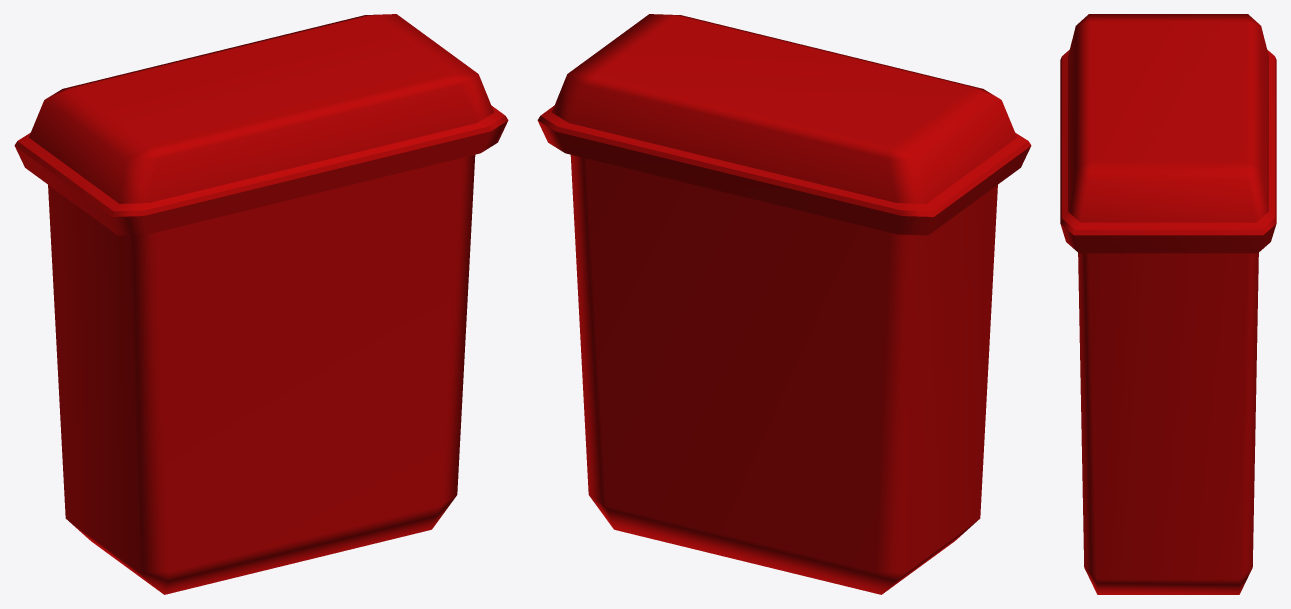
File: SM_WallShelf_01b.FBX
3 views of the same model, side by side, from view 1: azimuth 30°, elevation 25°; view 2: azimuth 150°, elevation 25°; view 3: azimuth 270°, elevation 25° (orthographic). The views are drawn at different scales.
Visible parts, largest first — view 1: SM_WallShelf_01b_LOD0; view 2: SM_WallShelf_01b_LOD0; view 3: SM_WallShelf_01b_LOD0.
Boxes of the visible parts, x1,y1,x2,y2 form: SM_WallShelf_01b_LOD0: [14, 14, 508, 594]; SM_WallShelf_01b_LOD0: [537, 14, 1031, 594]; SM_WallShelf_01b_LOD0: [1060, 14, 1276, 594].
Size of what is drawn, in the model's own units: 19.12 by 20.92 by 9.32.
